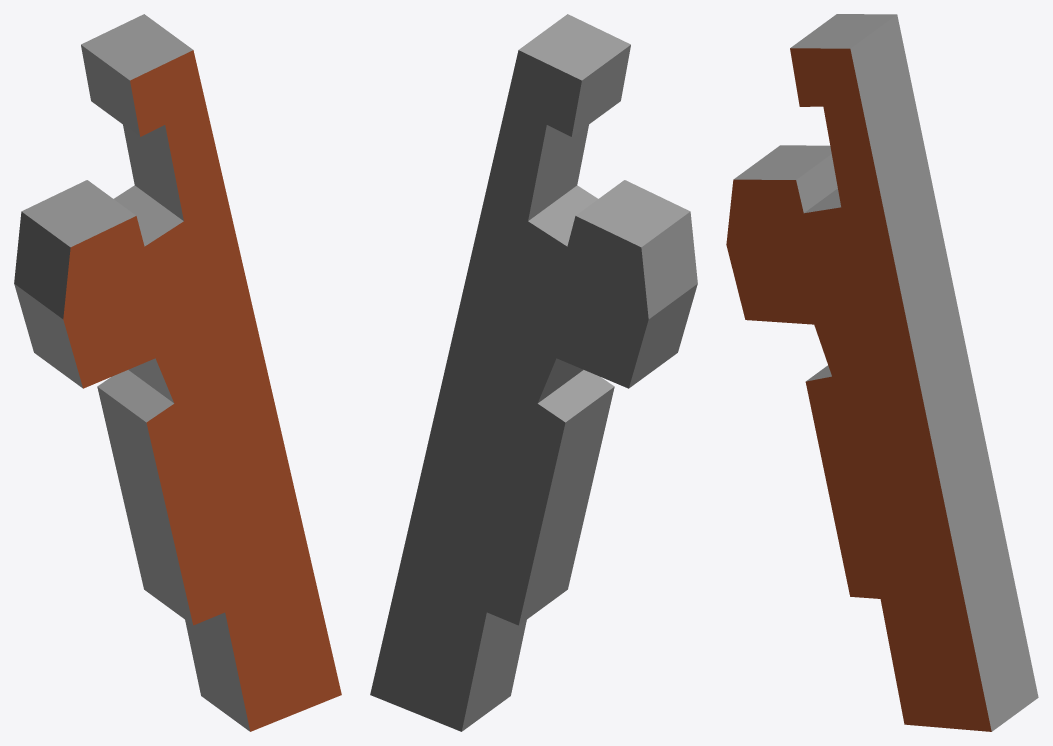
File: construction_4269_assumed_A_Casa_h6m.obj
3 views of the same model, side by side, from view 1: azimuth 30°, elevation 25°; view 2: azimuth 150°, elevation 25°; view 3: azimuth 330°, elevation 25° (orthographic). The views are drawn at different scales.
Visible parts, largest first — view 1: construction_4269_assumed_A_Casa; view 2: construction_4269_assumed_A_Casa; view 3: construction_4269_assumed_A_Casa.
Part boxes in pixels (box(x1,y1,x2,y2)): construction_4269_assumed_A_Casa: box(14, 14, 341, 731); construction_4269_assumed_A_Casa: box(370, 14, 697, 731); construction_4269_assumed_A_Casa: box(726, 14, 1038, 731).
Bounding box in the file's own units: 19.61 × 46.8 × 6.
